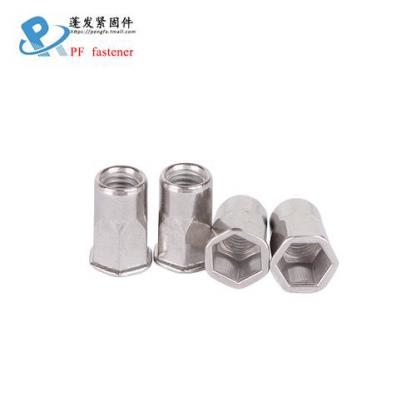FOD: (152, 150, 217, 278), (87, 162, 152, 280), (268, 193, 338, 295), (205, 192, 273, 292)
